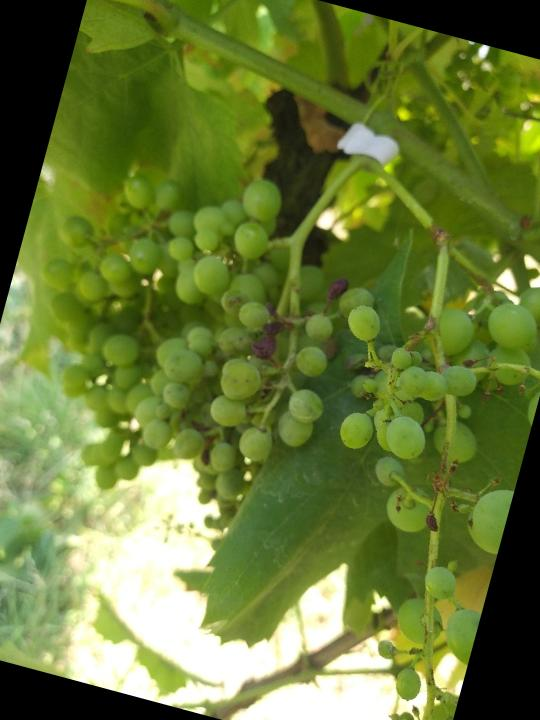grape: (108, 160, 399, 529)
